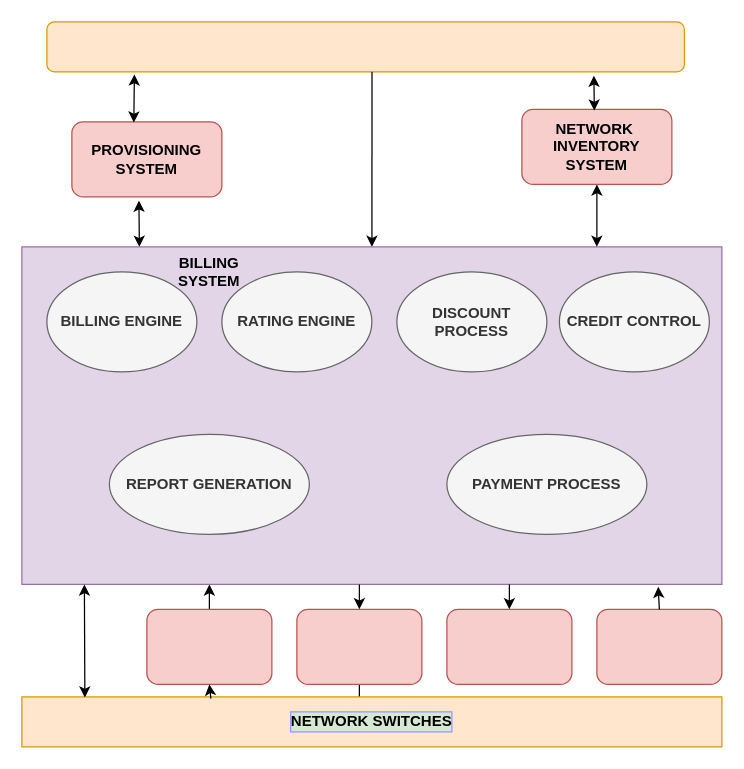
This 744x769 diagram has some shape labels left out. Here are the shapes that lost their labels. From the top down, the centre of each, then its label:
At (x=365, y=46): "CRM/OMOF".
At (x=209, y=646): "MEDIATION SYSTEM".
At (x=359, y=646): "DWT".
At (x=509, y=646): "ERP".
At (x=659, y=646): "PAYMENT GATEWAY".
